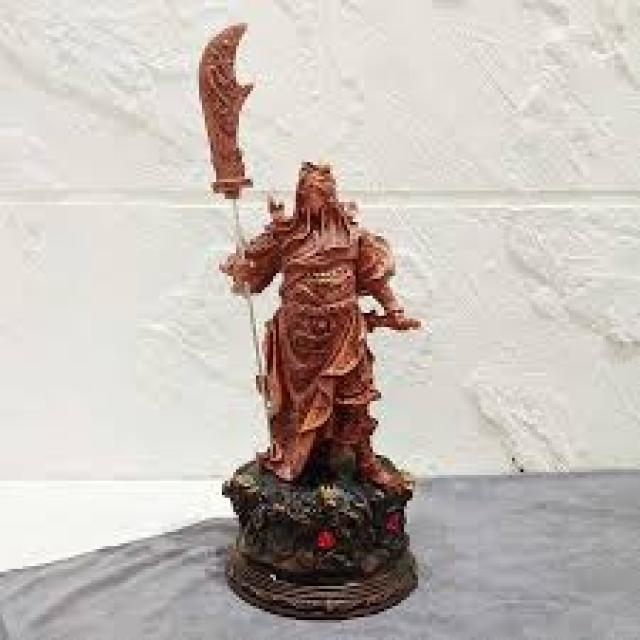Guan Yu: (233, 158, 397, 486)
